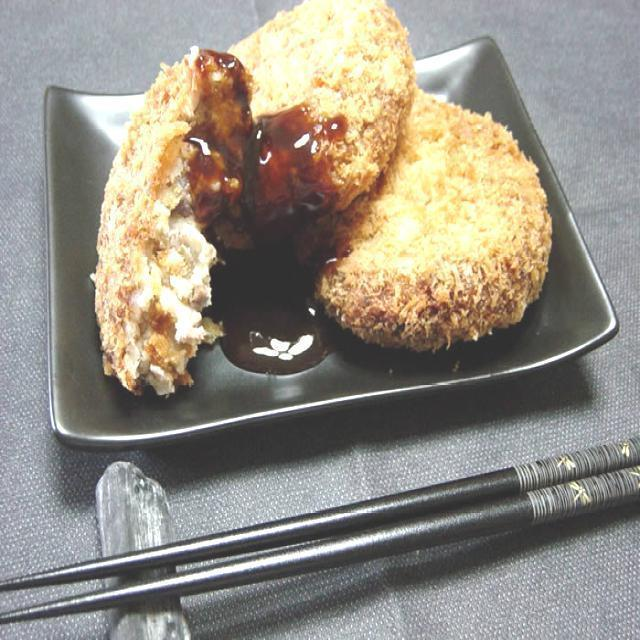croquette: (87, 0, 554, 418)
